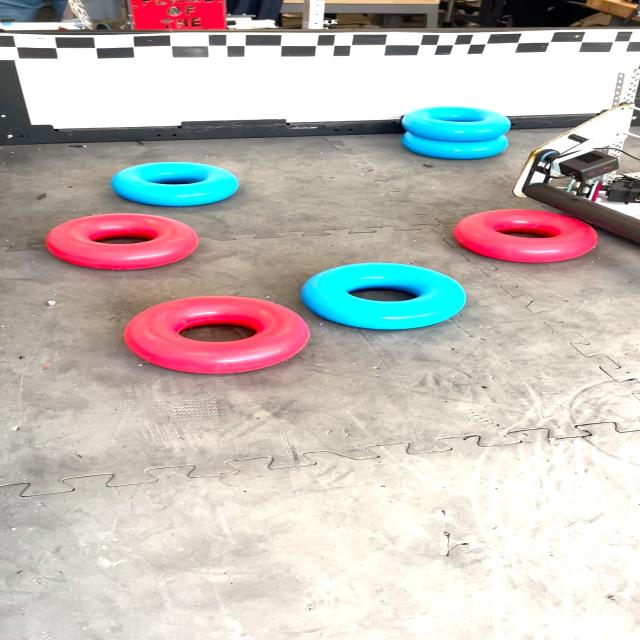Blue-Ring: (300, 262, 467, 330), (111, 162, 238, 206), (402, 106, 511, 141), (402, 132, 507, 159)
Red-Ring: (124, 296, 309, 374), (44, 214, 198, 270), (453, 209, 598, 262)
